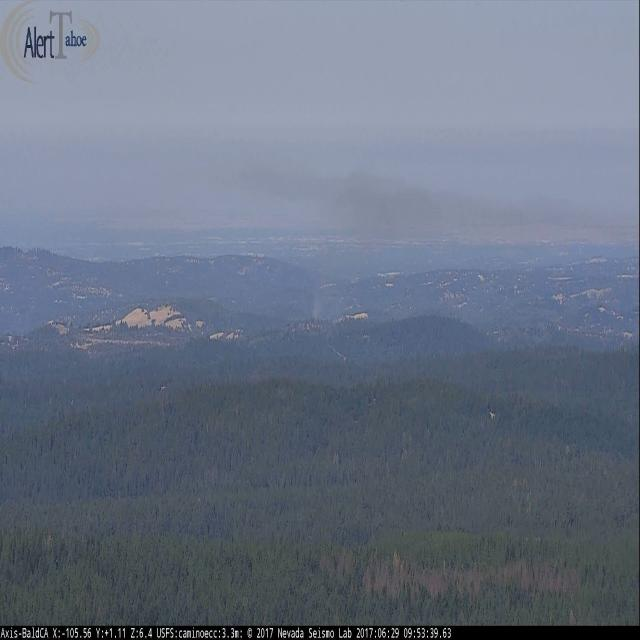smoke: (308, 291, 324, 319)
